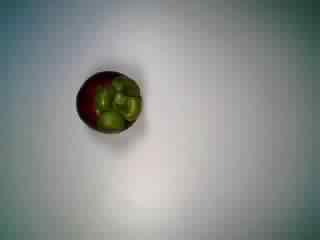mangosteen: (69, 66, 147, 139)
